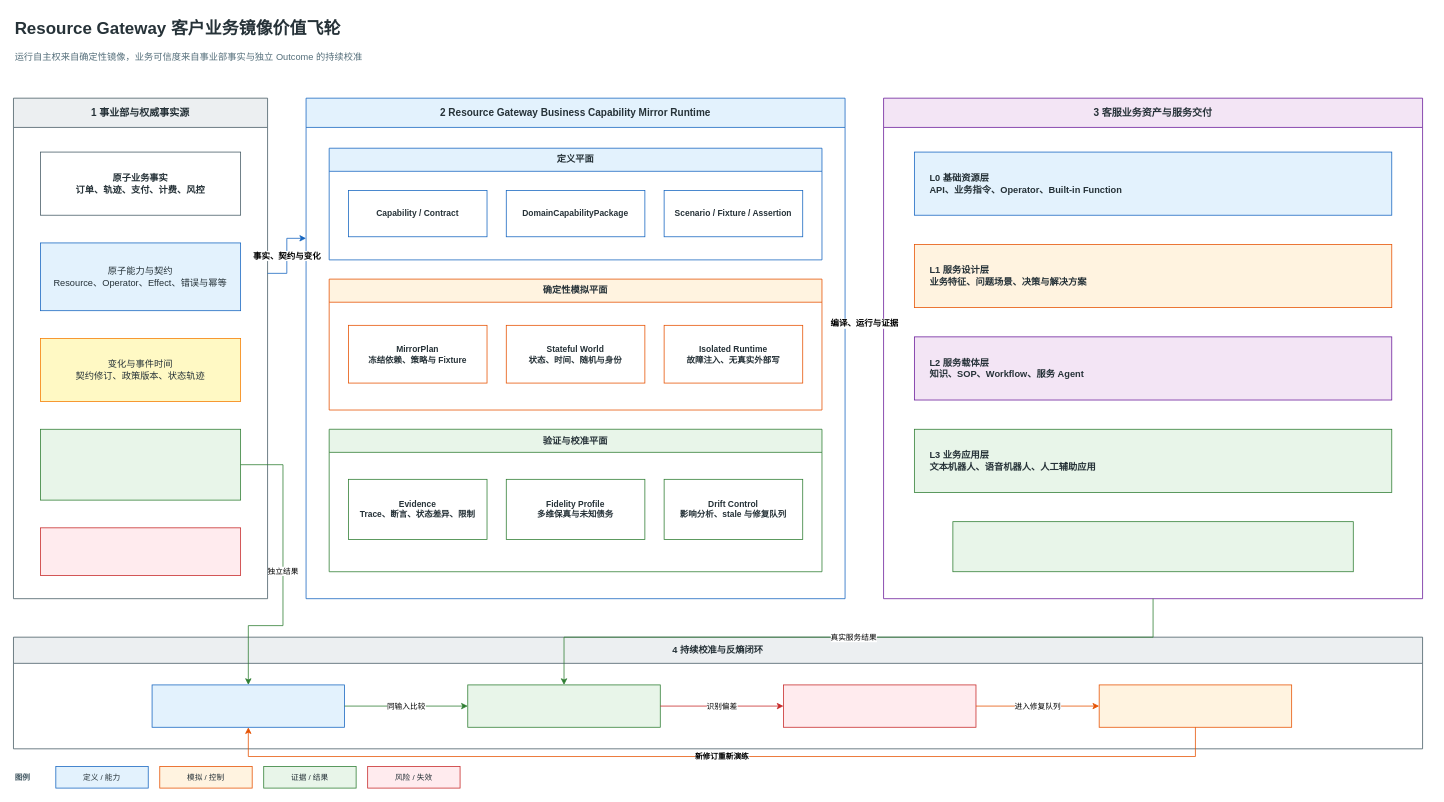
The diagram is 1444 pixels wide and 802 high, and some of its shapes have lost their labels. The shapes that lost their labels are listed below. From the top down, each one's centre as x and y in pixels, then its label:
At point (140, 464): "独立业务 Outcome 问题闭环、二次申诉、人工纠正、退款结果".
At point (140, 551): "事实约束 运行日志不能自证业务正确性".
At point (1152, 546): "竞争壁垒 跨域问题模型 × 风险覆盖 × 真实校准 × 学习速度".
At point (248, 705): "只读 Shadow / 脱敏 Replay".
At point (563, 705): "Typed Diff / Outcome 对账".
At point (879, 705): "保真下降 / 资产 STALE".
At point (1195, 705): "Owner 复核 / 新修订 / 受影响回归".
